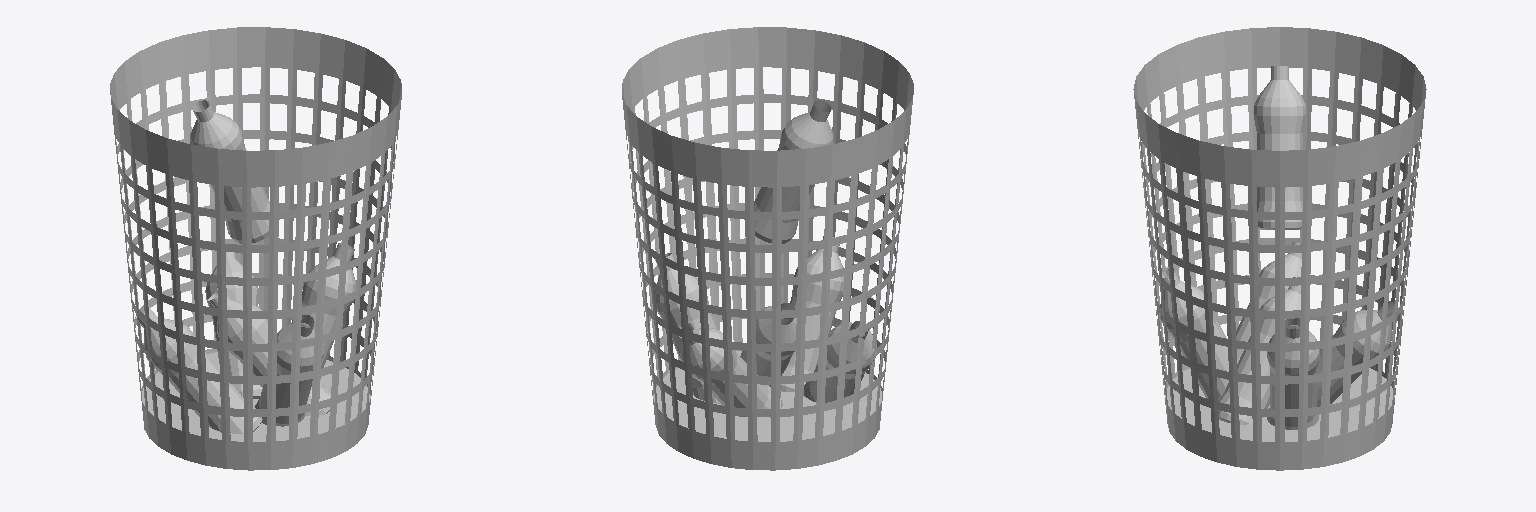
File: DustbinWithCan_000025.obj
3 renders of one model, left to right at view 1: azimuth 30°, elevation 25°; view 2: azimuth 150°, elevation 25°; view 3: azimuth 270°, elevation 25°, orthographic.
Parts seen in each view (by area): view 1: Cylinder, Plane.006, Plane.005, Plane.001, Plane.003, Plane.004, Plane.002; view 2: Cylinder, Plane.006, Plane.001, Plane.002, Plane.005, Plane.003, Plane.004; view 3: Cylinder, Plane.006, Plane.001, Plane.004, Plane.003, Plane.002, Plane.005.
Part boxes in pixels (left/top/right/bottom): Cylinder: left=110, top=27, right=401, bottom=470; Plane.006: left=190, top=100, right=269, bottom=243; Plane.005: left=135, top=307, right=262, bottom=433; Plane.001: left=255, top=315, right=323, bottom=426; Plane.003: left=291, top=243, right=355, bottom=368; Plane.004: left=208, top=291, right=330, bottom=415; Plane.002: left=205, top=252, right=262, bottom=398; Cylinder: left=622, top=27, right=913, bottom=470; Plane.006: left=754, top=100, right=833, bottom=243; Plane.001: left=770, top=236, right=843, bottom=391; Plane.002: left=679, top=323, right=782, bottom=416; Plane.005: left=804, top=321, right=876, bottom=402; Plane.003: left=655, top=253, right=719, bottom=403; Plane.004: left=740, top=303, right=796, bottom=385; Cylinder: left=1133, top=27, right=1426, bottom=470; Plane.006: left=1254, top=66, right=1305, bottom=229; Plane.001: left=1160, top=269, right=1238, bottom=399; Plane.004: left=1218, top=277, right=1300, bottom=424; Plane.003: left=1267, top=318, right=1319, bottom=429; Plane.002: left=1317, top=301, right=1394, bottom=406; Plane.005: left=1236, top=242, right=1301, bottom=359.
Size of the model in its own units: 2.6 by 3.27 by 2.6.